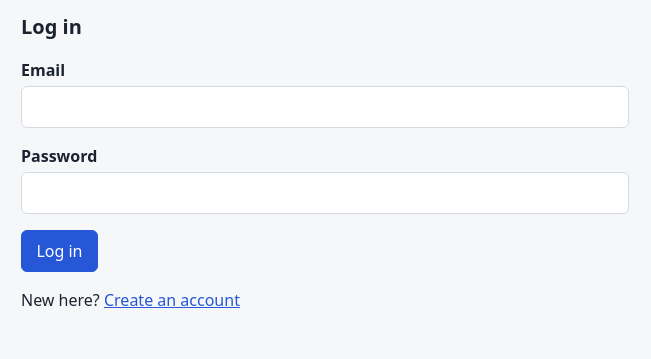
Test: LoginForm › extra: does not apply the password length rules to a login
Type "ada@example.com" into the field labelled "Email" at (325, 107), box left=21, top=86, right=629, bottom=128
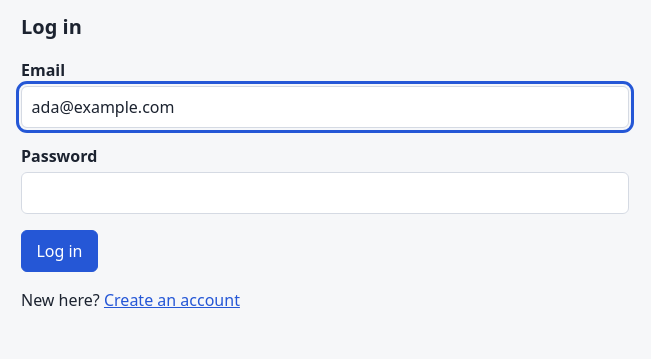
Type "short" into the password field labelled "Password" at (325, 193), box left=21, top=172, right=629, bottom=214
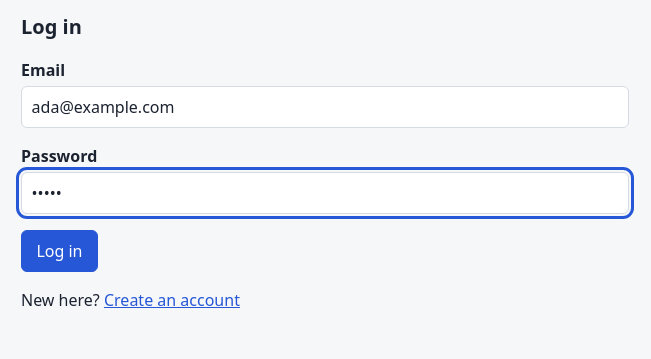
Click the button "Log in" at (59, 251), box left=21, top=230, right=98, bottom=272
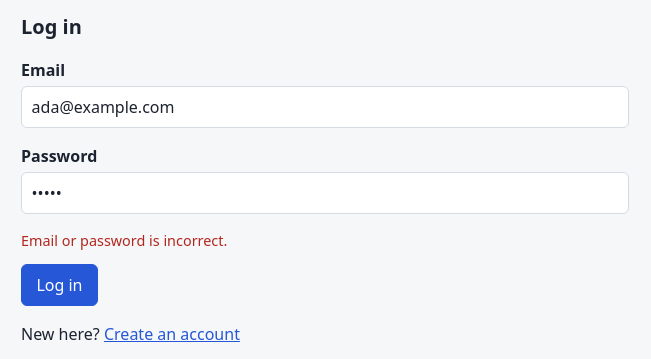
Expected: the message reads "Email or password is incorrect.", left=21, top=231, right=227, bottom=250
